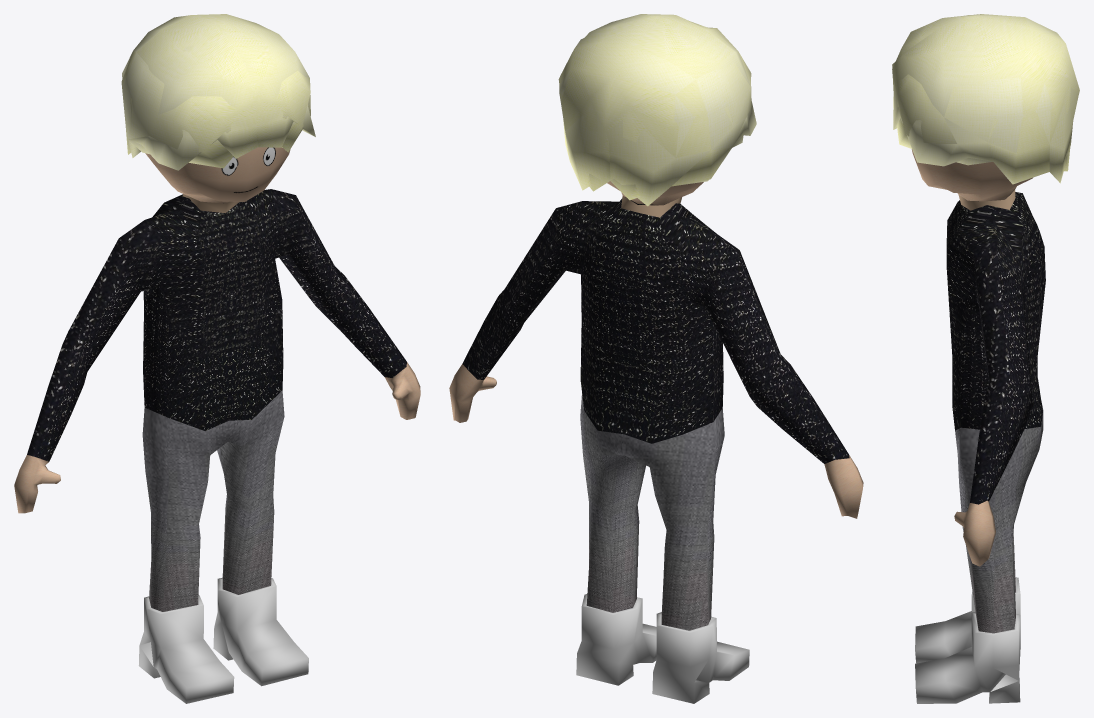
The model's file is Le perso.fbx.
3 renders of one model, left to right at view 1: azimuth 30°, elevation 25°; view 2: azimuth 150°, elevation 25°; view 3: azimuth 270°, elevation 25°, orthographic.
Visible parts, largest first — view 1: Cube.004; view 2: Cube.004; view 3: Cube.004.
Boxes of the visible parts, x1,y1,x2,y2 form: Cube.004: (14, 14, 420, 703); Cube.004: (449, 14, 863, 703); Cube.004: (892, 14, 1079, 703).
Bounding box in the file's own units: 963 × 1460 × 378.
